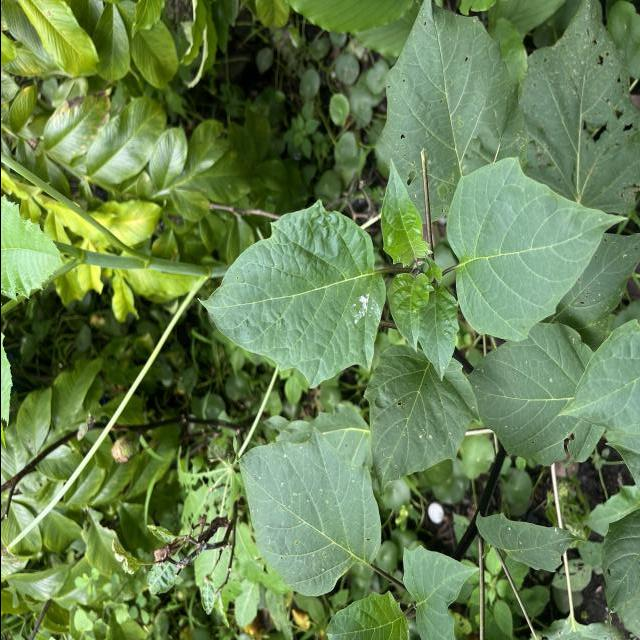Datura metal linn: (190, 194, 388, 393), (442, 154, 631, 346), (230, 418, 384, 600), (358, 341, 482, 502)
